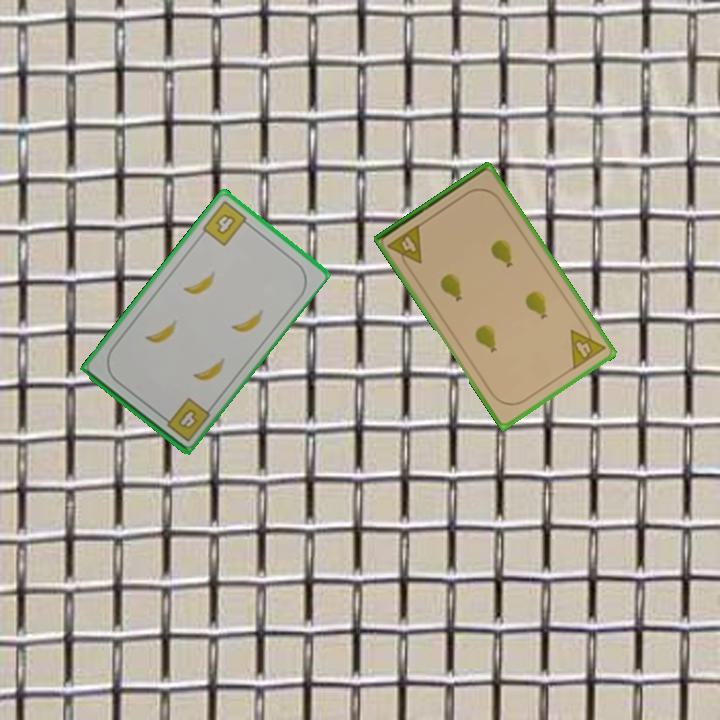4b: (199, 197, 254, 249), (157, 394, 213, 444)
4p: (567, 319, 608, 373), (384, 221, 425, 273)
